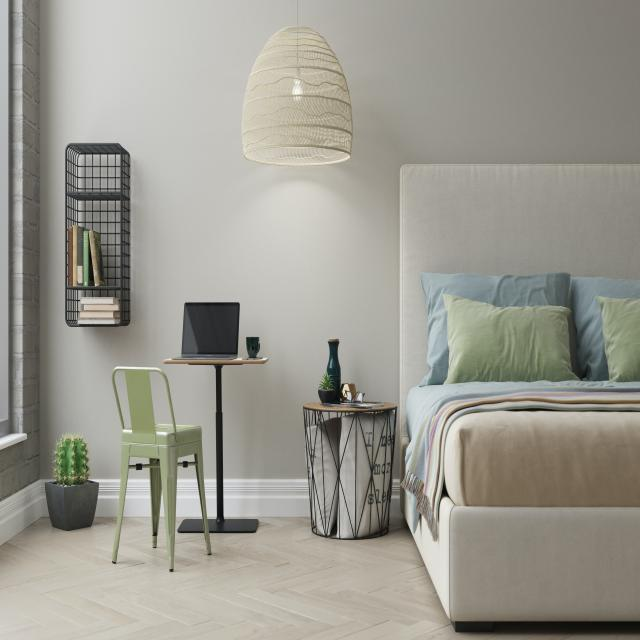floor: (0, 513, 640, 640), (175, 519, 194, 531), (175, 516, 178, 533)
